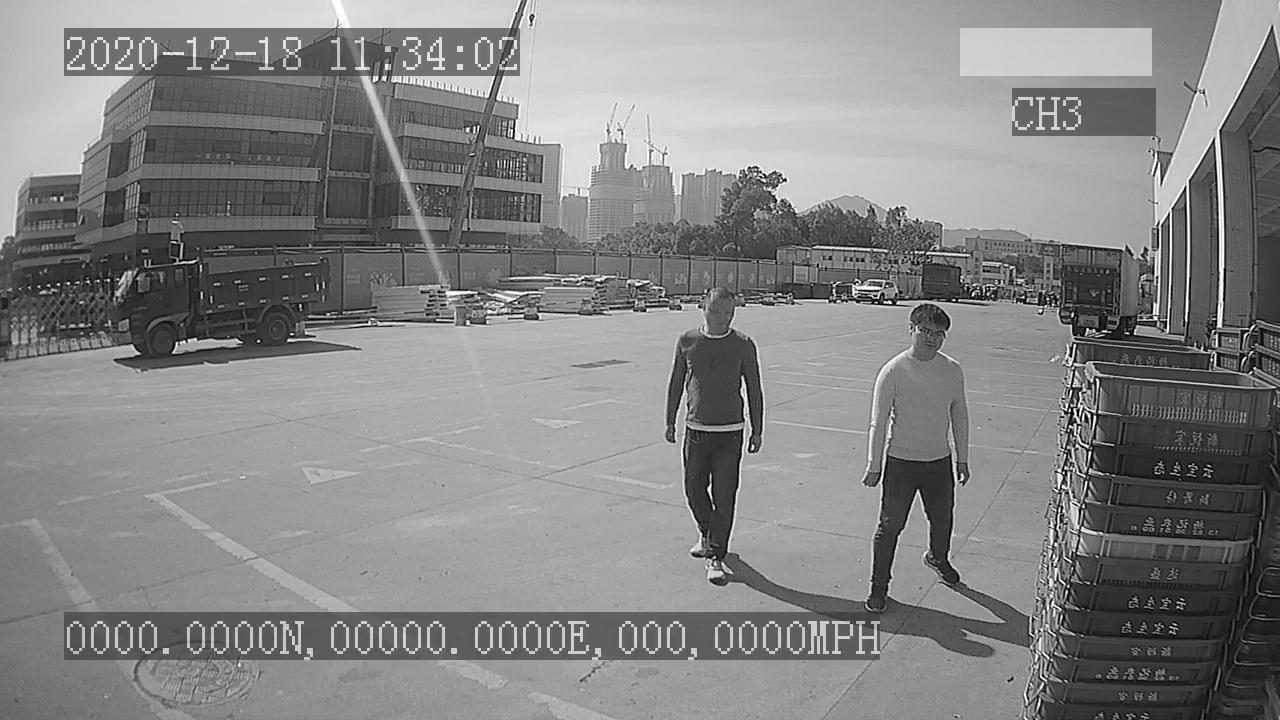person: (858, 302, 976, 613), (656, 284, 772, 588)
